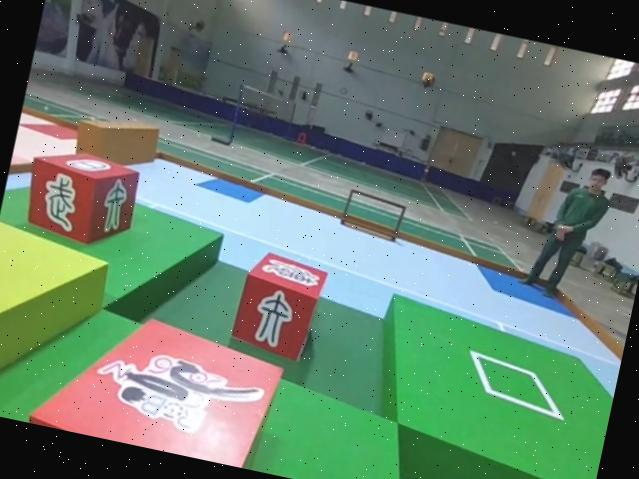R1: (11, 288, 286, 472)
R2 Fake: (15, 141, 144, 253), (224, 243, 332, 362)
